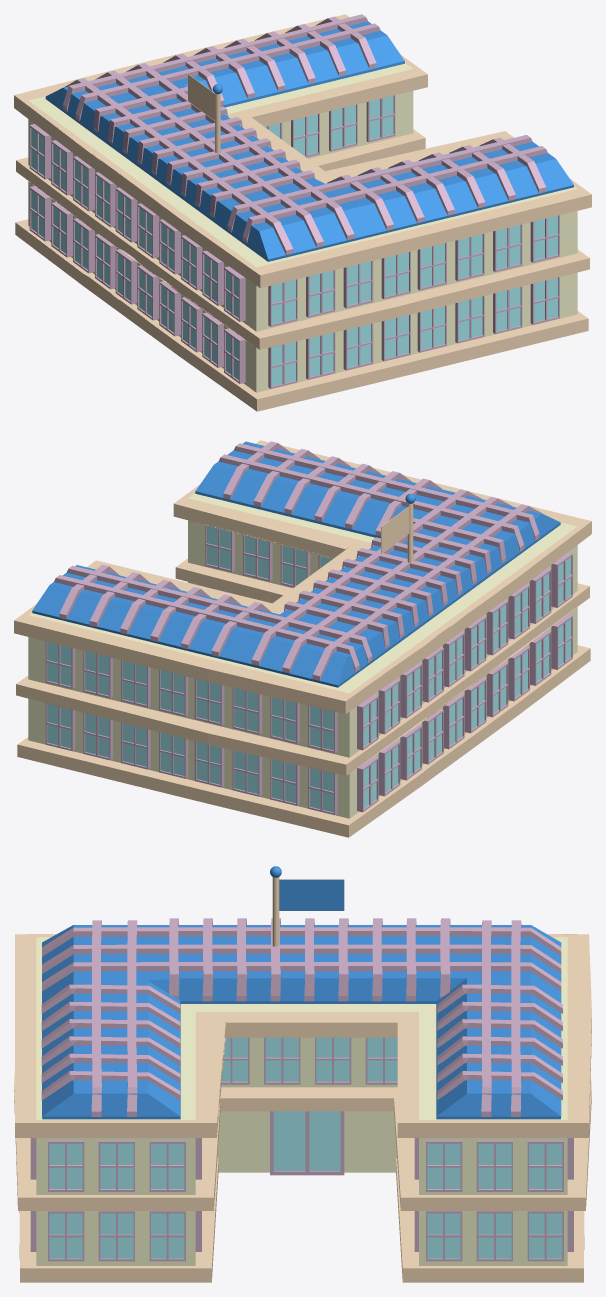
Rendered from City-Hall.fbx.
3 views of the same model, one above another, from view 1: azimuth 30°, elevation 25°; view 2: azimuth 150°, elevation 25°; view 3: azimuth 270°, elevation 25° (orthographic). The views are drawn at different scales.
Parts seen in each view (by area): view 1: Cube, Cube.028, Cube.023, Cube.022, Cube.014, Cube.012, Cube.015, Cube.013, Cube.021, Cube.020, Cube.009, Cylinder; view 2: Cube, Cube.028, Cube.023, Cube.022, Cube.018, Cube.016, Cube.019, Cube.017, Cube.021, Cube.020, Cube.008, Cylinder; view 3: Cube, Cube.028, Cube.007, Cube.024, Cube.026, Cube.025, Cube.027, Cylinder.
Part boxes in pixels (x1,y1,x2,y2): Cube: (14,14,591,411); Cube.028: (45,14,573,261); Cube.023: (115,249,245,383); Cube.022: (115,187,245,321); Cube.014: (268,251,410,326); Cube.012: (417,215,559,290); Cube.015: (268,314,410,388); Cube.013: (417,277,559,352); Cube.021: (29,186,116,289); Cube.020: (29,124,116,227); Cube.009: (265,95,395,157); Cylinder: (188,74,222,153); Cube: (14,440,591,837); Cube.028: (32,441,560,687); Cube.023: (443,614,572,749); Cube.022: (443,552,572,687); Cube.018: (194,678,337,753); Cube.016: (45,641,188,716); Cube.019: (194,741,337,815); Cube.017: (45,703,188,778); Cube.021: (357,709,443,812); Cube.020: (357,647,443,750); Cube.008: (205,525,332,587); Cylinder: (381,494,415,562); Cube: (14,934,591,1282); Cube.028: (41,918,562,1119); Cube.007: (221,1037,397,1084); Cube.024: (48,1140,185,1191); Cube.026: (426,1140,563,1191); Cube.025: (48,1211,185,1261); Cube.027: (426,1211,563,1261); Cylinder: (270,866,344,946).
Size of the model in its own units: 7620 by 5000 by 9786.
